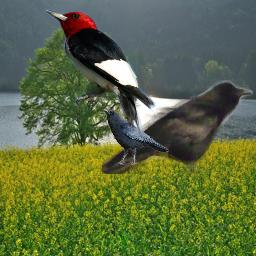Crow: (102, 80, 253, 174), (102, 109, 169, 165)
Woodpecker: (42, 9, 157, 135)
